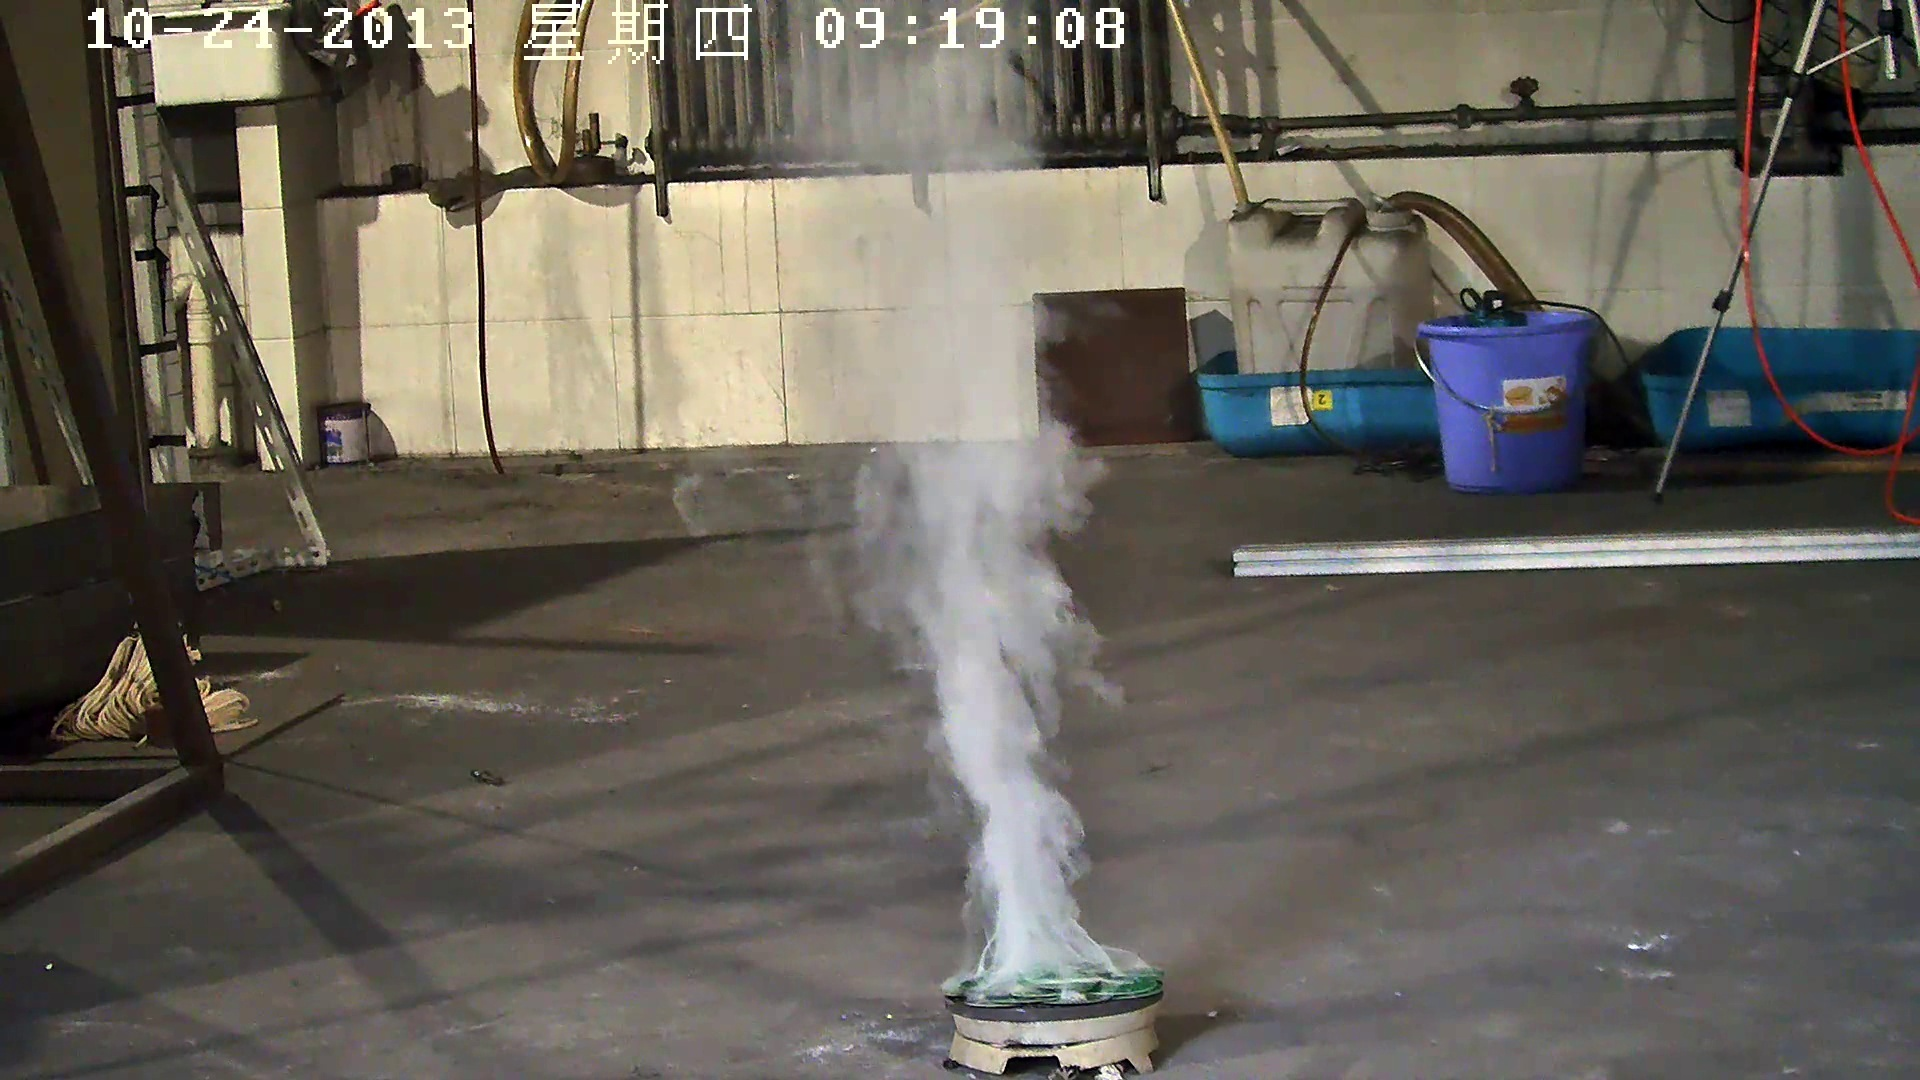smoke: (729, 45, 1218, 1007)
